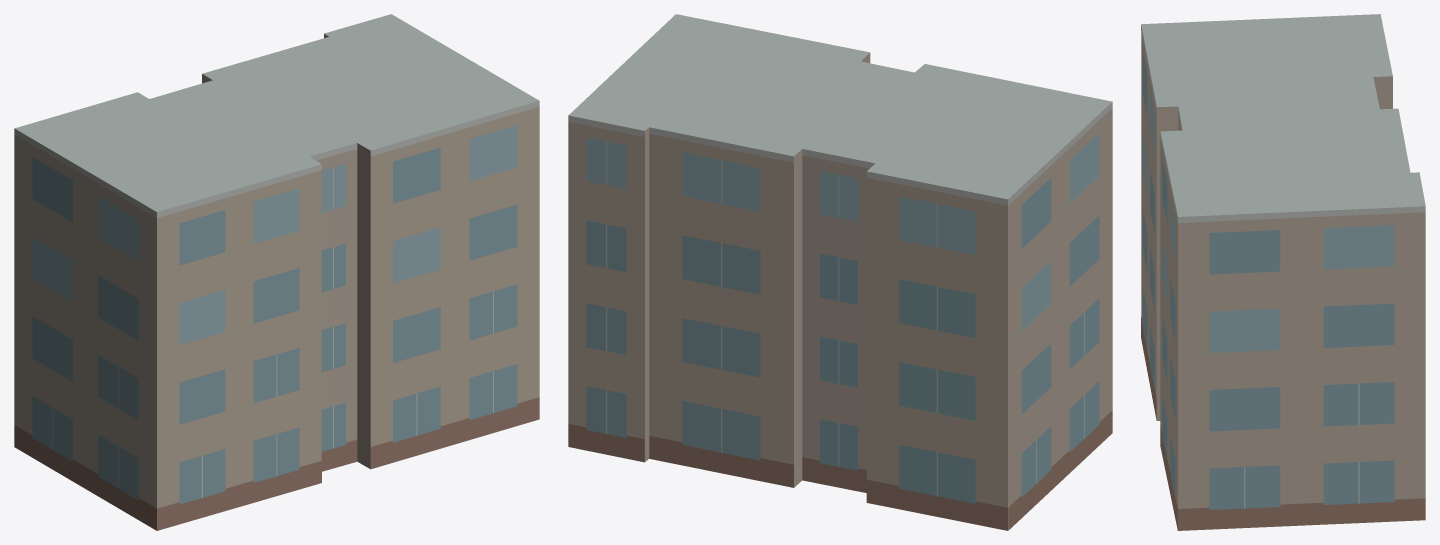
Rendered from survey-upis-32757650.glb.
3 renders of one model, left to right at view 1: azimuth 30°, elevation 25°; view 2: azimuth 150°, elevation 25°; view 3: azimuth 270°, elevation 25°, orthographic. The views are drawn at different scales.
Parts seen in each view (by area): view 1: survey-upis-32757650.tmp; view 2: survey-upis-32757650.tmp; view 3: survey-upis-32757650.tmp.
Boxes of the visible parts, bbox=[...] form: survey-upis-32757650.tmp: bbox=[14, 14, 539, 530]; survey-upis-32757650.tmp: bbox=[568, 14, 1112, 530]; survey-upis-32757650.tmp: bbox=[1141, 14, 1425, 530].
Bounding box in the file's own units: 17.76 × 12.8 × 10.53.
